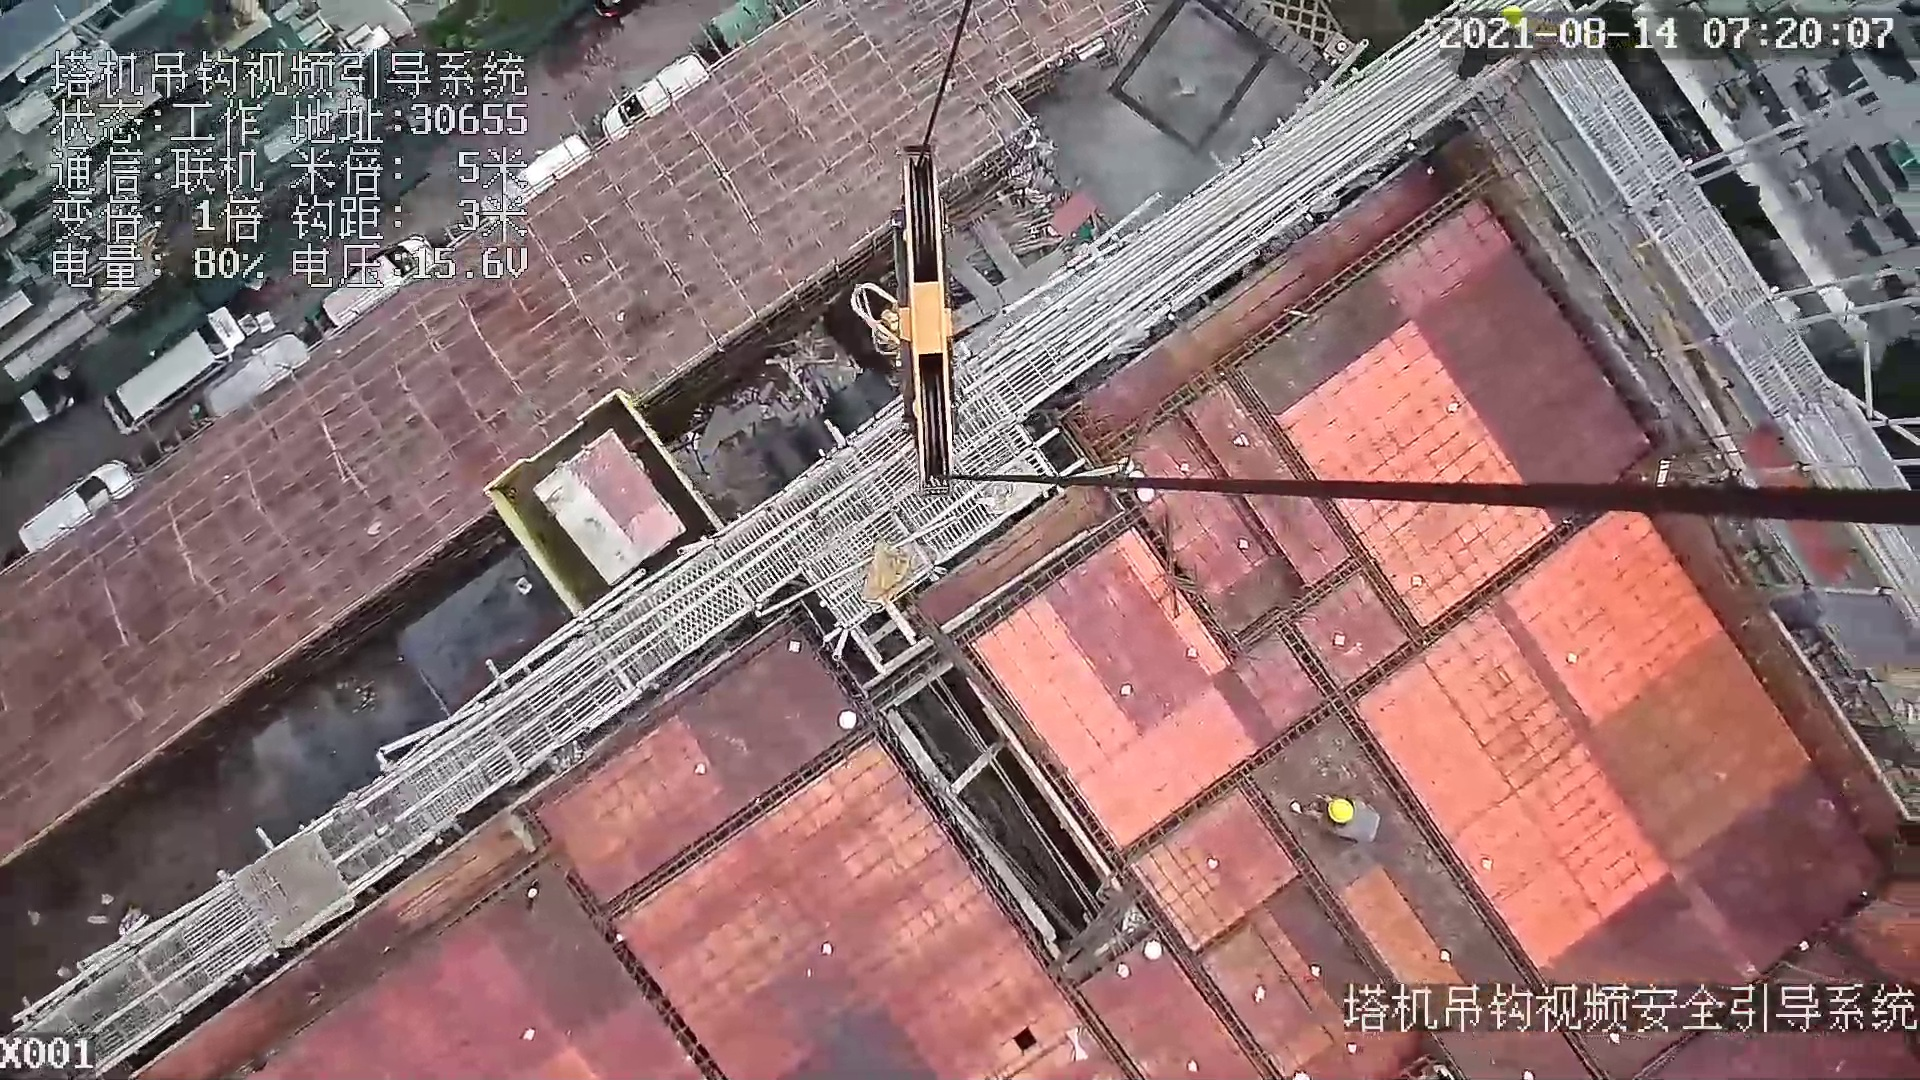helmet: (1324, 795, 1359, 826)
hook: (846, 130, 972, 494)
person: (1304, 789, 1379, 850)
